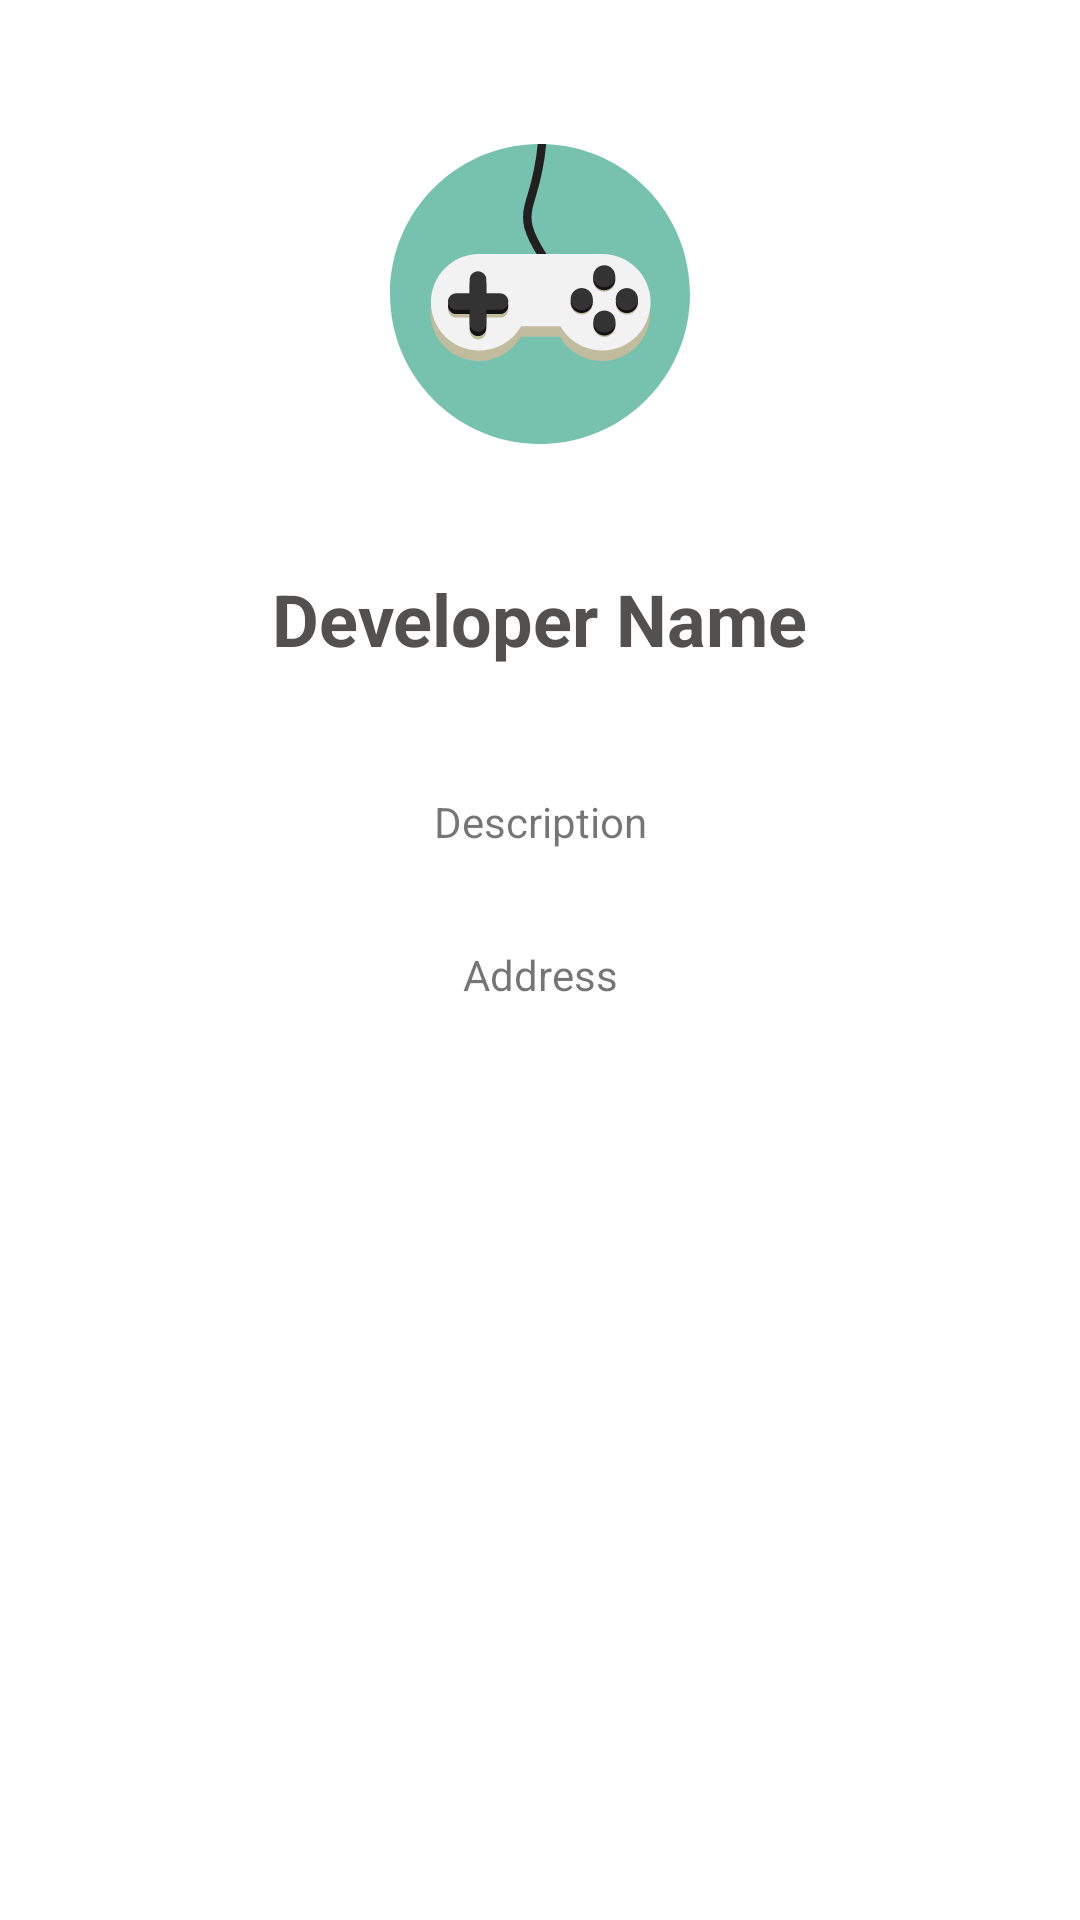

Icon click points for this 1080 x 1920 phone screenshot, format point (x, y):
video game controller: point (540, 294)
